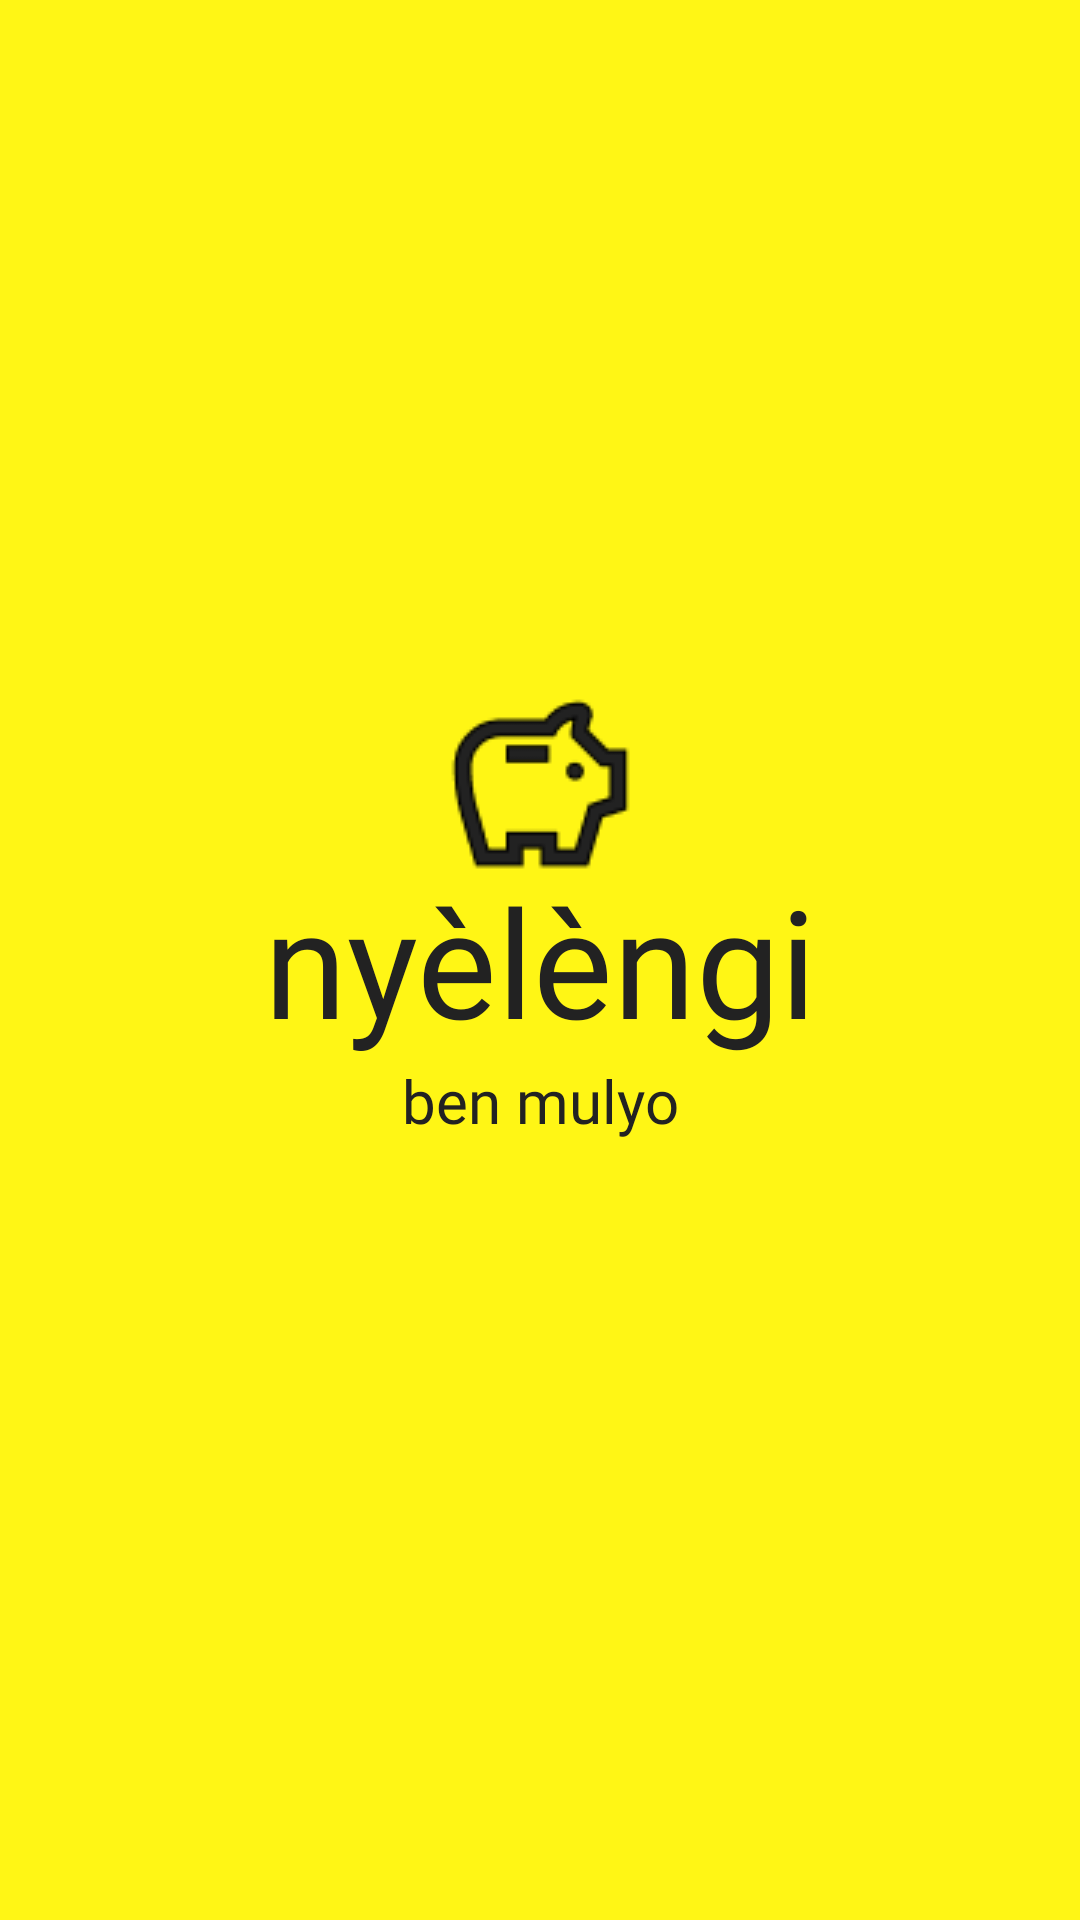

Named icons in this screenshot (1080*1920) and their bounding boxes, [left=x1, top=y1, right=x2, bottom=y2]:
savings: [left=452, top=700, right=629, bottom=869]
